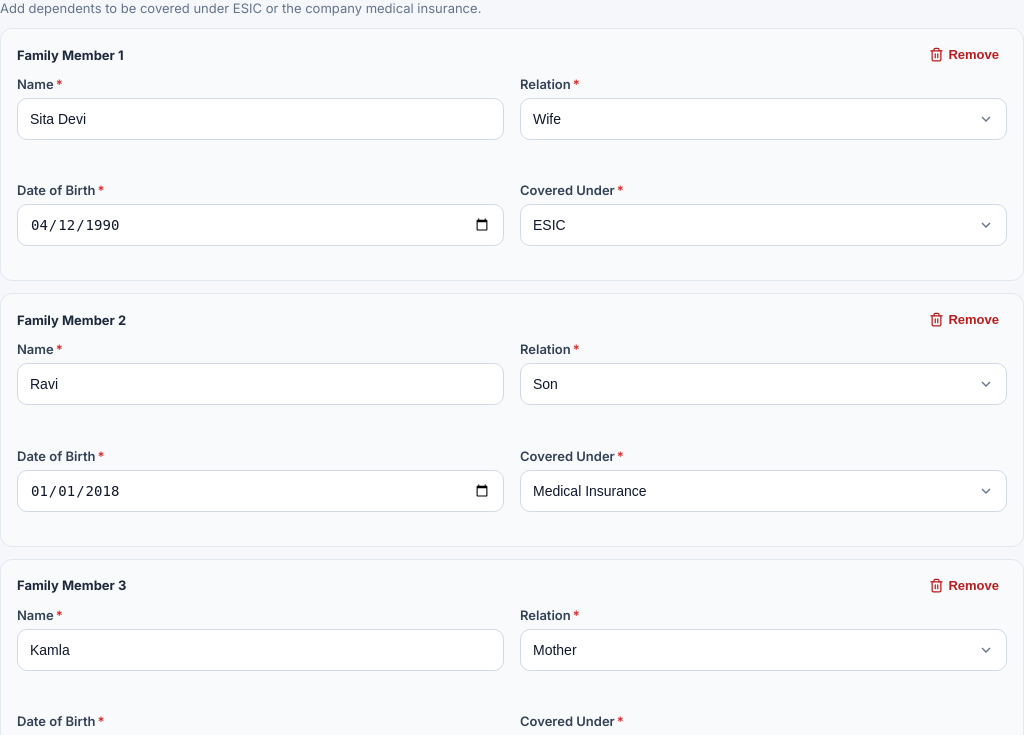
Test case: FamilyMembersEditor › removes the right card and keeps the others' values
Click the button with aria-label "Remove family member 2": {"x": 964, "y": 320} [921,308,1007,331]
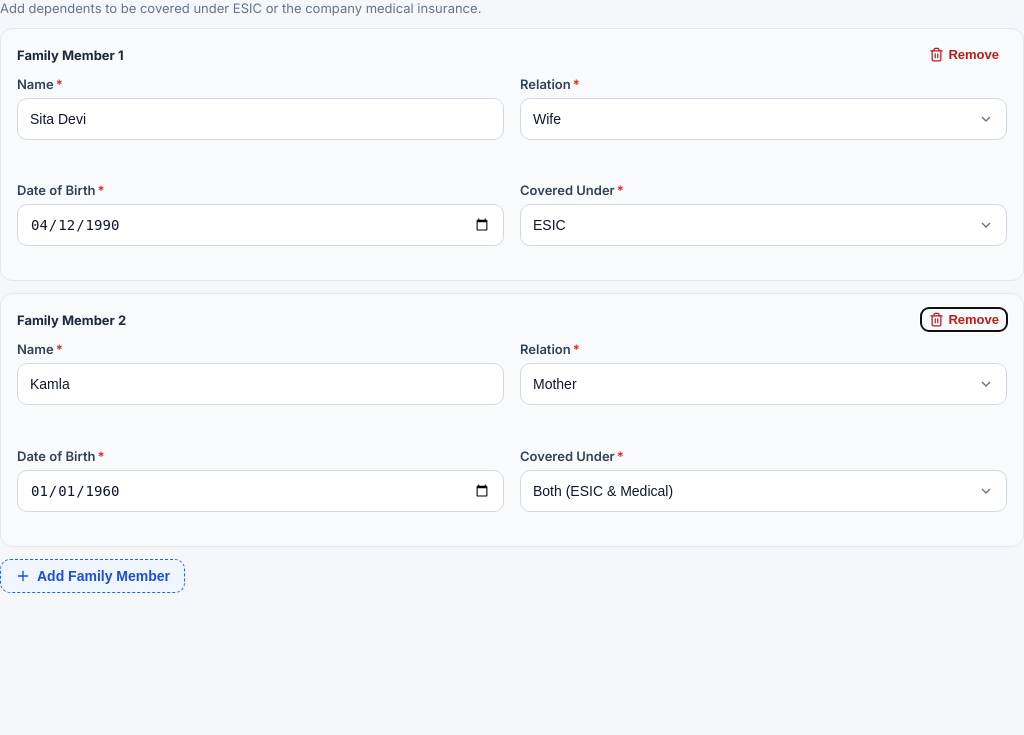
expect the text "Family Member 3" is gone: met
